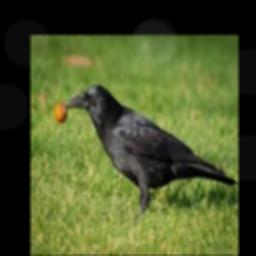Crow: (64, 83, 237, 214)
